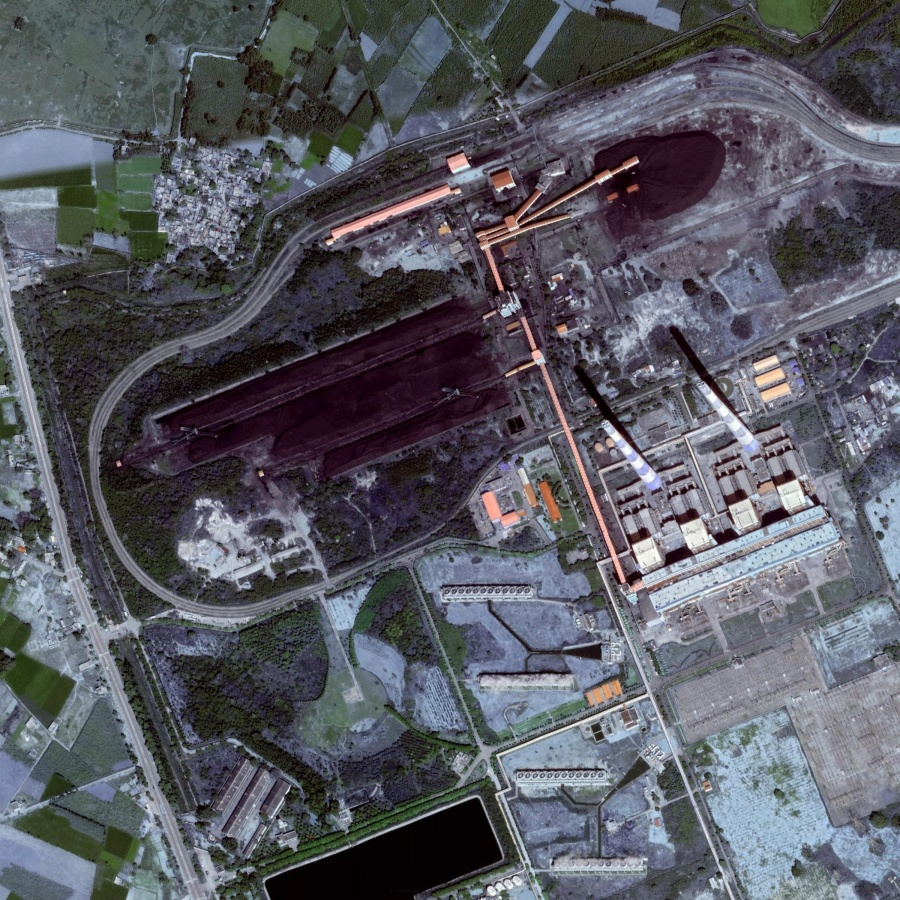PowerPlant: (112, 95, 721, 604), (563, 318, 800, 524)
